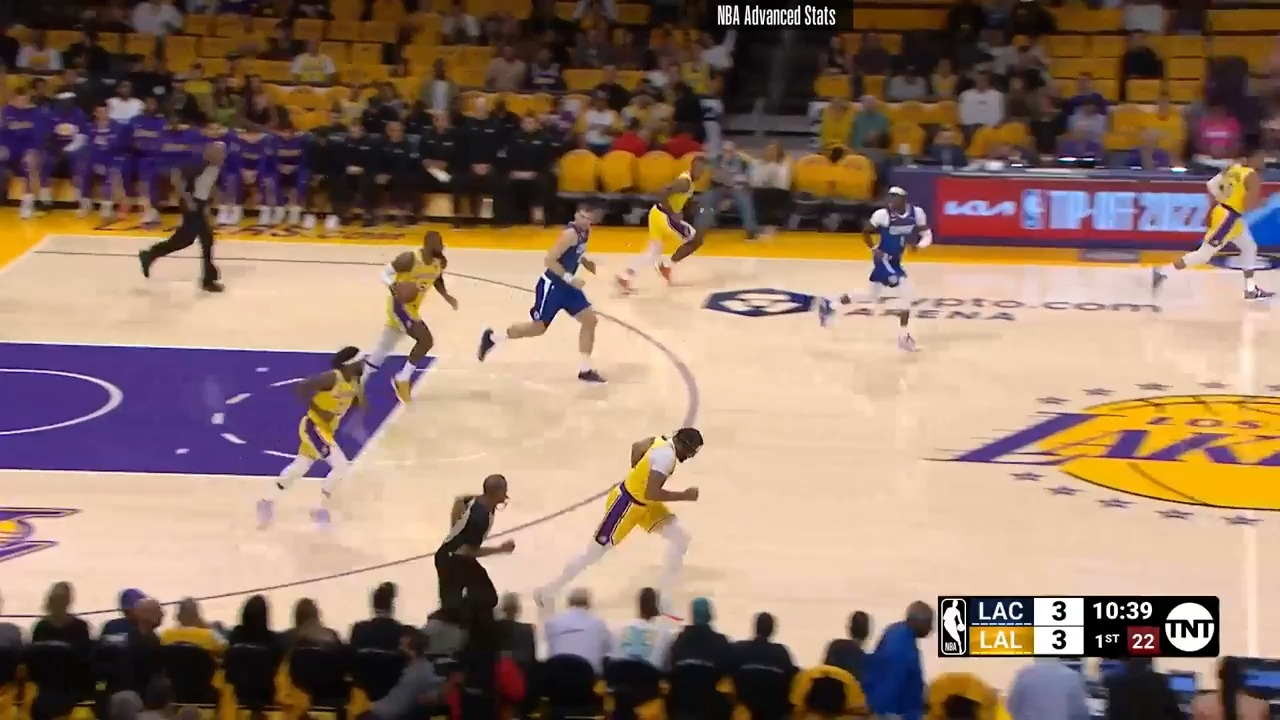player: (545, 423, 708, 608), (253, 337, 399, 539), (477, 202, 612, 389), (1144, 141, 1276, 312), (348, 230, 463, 411), (815, 189, 938, 355), (617, 145, 724, 296)
referee: (130, 133, 234, 299), (421, 470, 518, 609)
